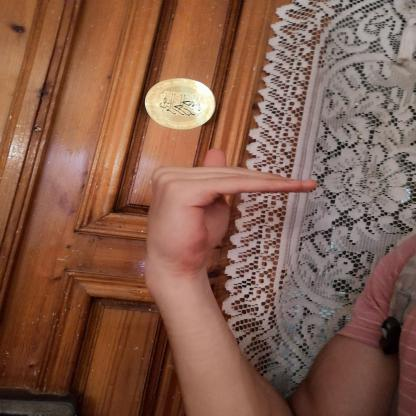KHAA: (128, 138, 343, 288)
